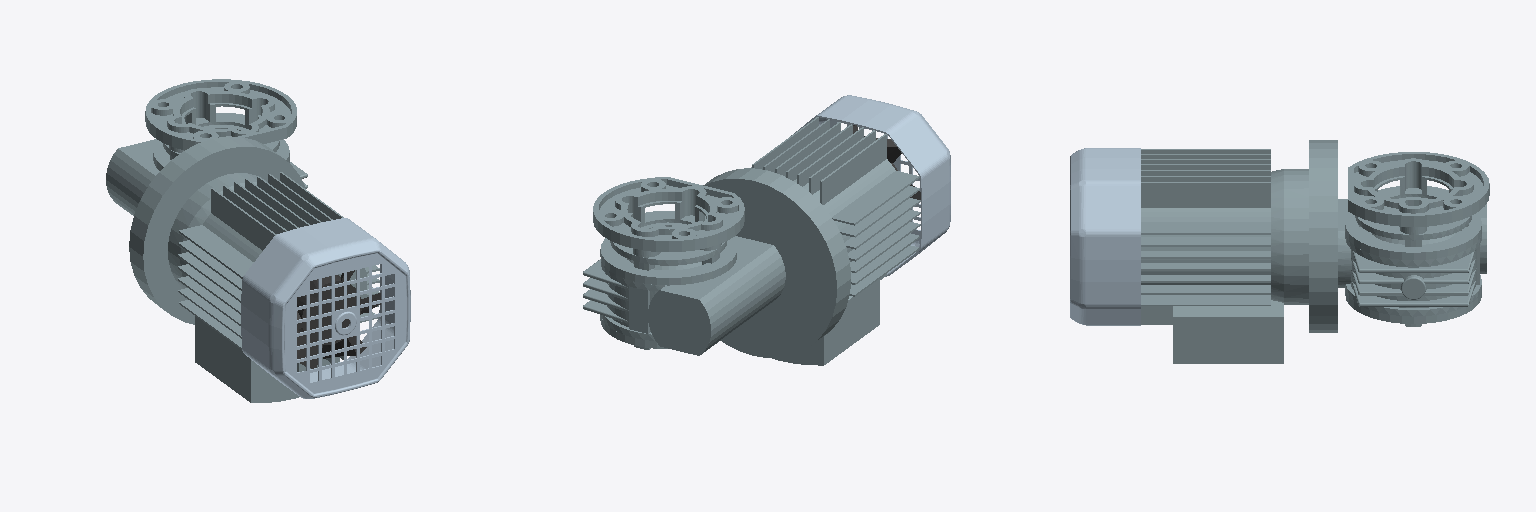
Rendered from BONFIGLIOLI.obj.
3 renders of one model, left to right at view 1: azimuth 30°, elevation 25°; view 2: azimuth 150°, elevation 25°; view 3: azimuth 270°, elevation 25°, orthographic.
Visible parts, largest first — view 1: BONFIGLIOLI-9, BONFIGLIOLI, BONFIGLIOLI-4, BONFIGLIOLI-1, BONFIGLIOLI-8, BONFIGLIOLI-3; view 2: BONFIGLIOLI-9, BONFIGLIOLI-4, BONFIGLIOLI, BONFIGLIOLI-3, BONFIGLIOLI-1; view 3: BONFIGLIOLI-9, BONFIGLIOLI, BONFIGLIOLI-4, BONFIGLIOLI-1, BONFIGLIOLI-3, BONFIGLIOLI-2.
Boxes of the visible parts, x1=… form: BONFIGLIOLI-9: x1=106, y1=136, x2=379, y2=371; BONFIGLIOLI: x1=241, y1=218, x2=410, y2=398; BONFIGLIOLI-4: x1=145, y1=79, x2=296, y2=157; BONFIGLIOLI-1: x1=195, y1=316, x2=339, y2=402; BONFIGLIOLI-8: x1=297, y1=270, x2=380, y2=368; BONFIGLIOLI-3: x1=153, y1=126, x2=289, y2=170; BONFIGLIOLI-9: x1=583, y1=117, x2=920, y2=357; BONFIGLIOLI-4: x1=593, y1=177, x2=744, y2=265; BONFIGLIOLI: x1=791, y1=95, x2=950, y2=276; BONFIGLIOLI-3: x1=600, y1=224, x2=736, y2=285; BONFIGLIOLI-1: x1=772, y1=279, x2=879, y2=365; BONFIGLIOLI-9: x1=1141, y1=140, x2=1486, y2=332; BONFIGLIOLI: x1=1070, y1=148, x2=1140, y2=325; BONFIGLIOLI-4: x1=1348, y1=152, x2=1489, y2=240; BONFIGLIOLI-1: x1=1173, y1=300, x2=1283, y2=363; BONFIGLIOLI-3: x1=1345, y1=199, x2=1481, y2=259; BONFIGLIOLI-2: x1=1345, y1=289, x2=1481, y2=326.
Bounding box in the file's own units: 164 × 160 × 304.